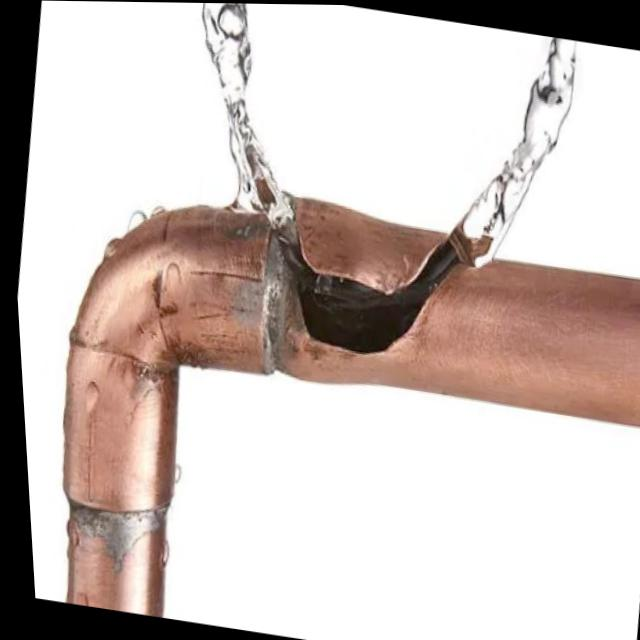leak: (184, 3, 585, 317)
